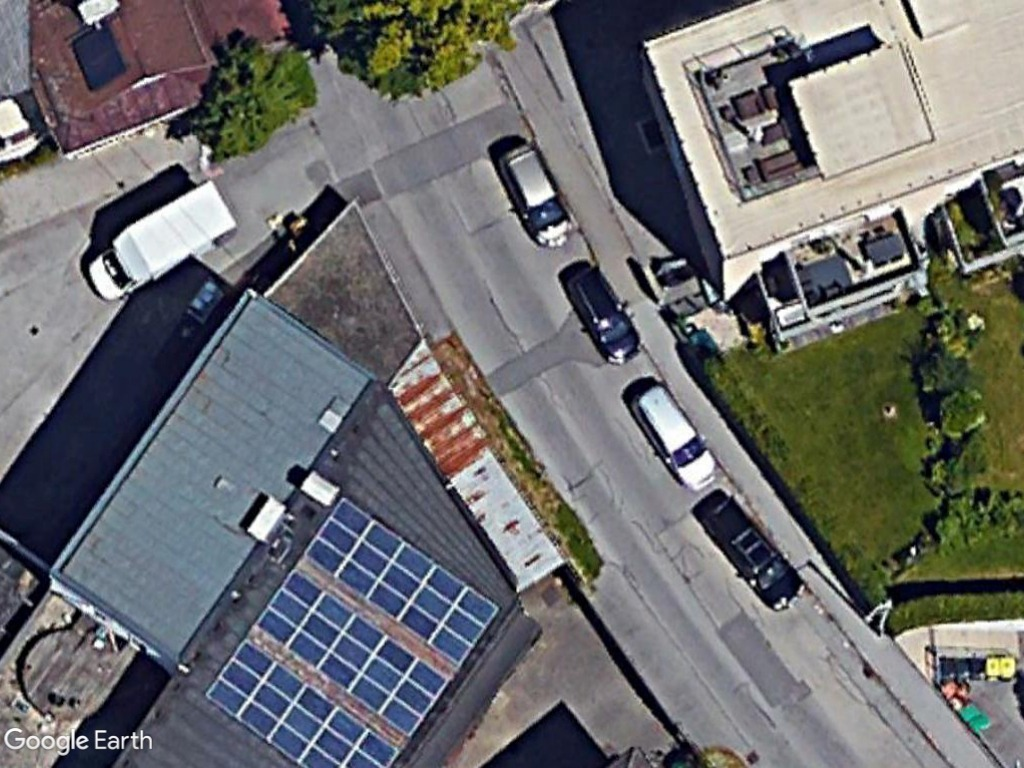car: (625, 382, 724, 494), (555, 261, 646, 367), (493, 141, 579, 252)
truck: (73, 170, 241, 312)
